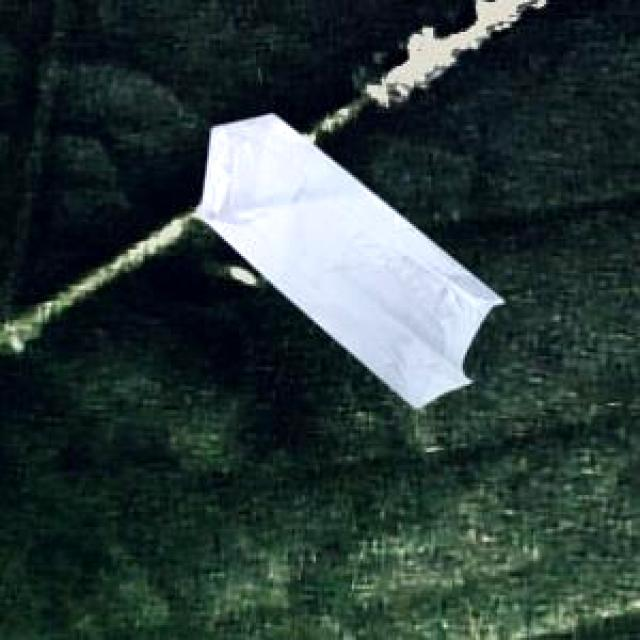Plastic_Bag: (198, 112, 500, 404)
